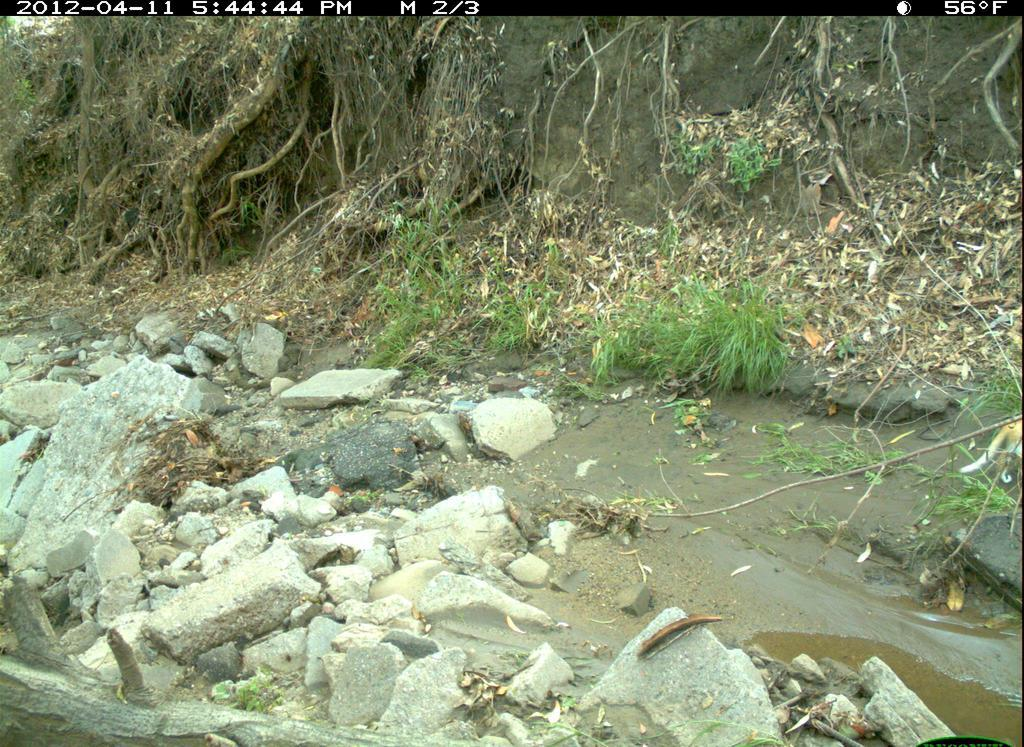cat: (955, 410, 1022, 493)
